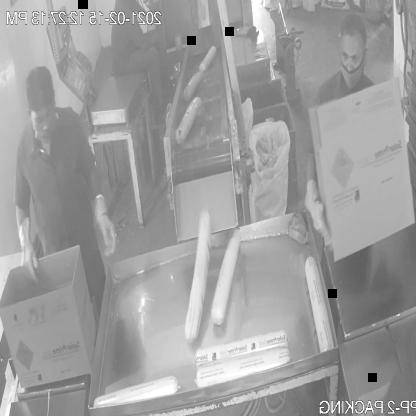glove: (88, 186, 121, 263), (300, 173, 334, 245), (15, 212, 41, 297)
